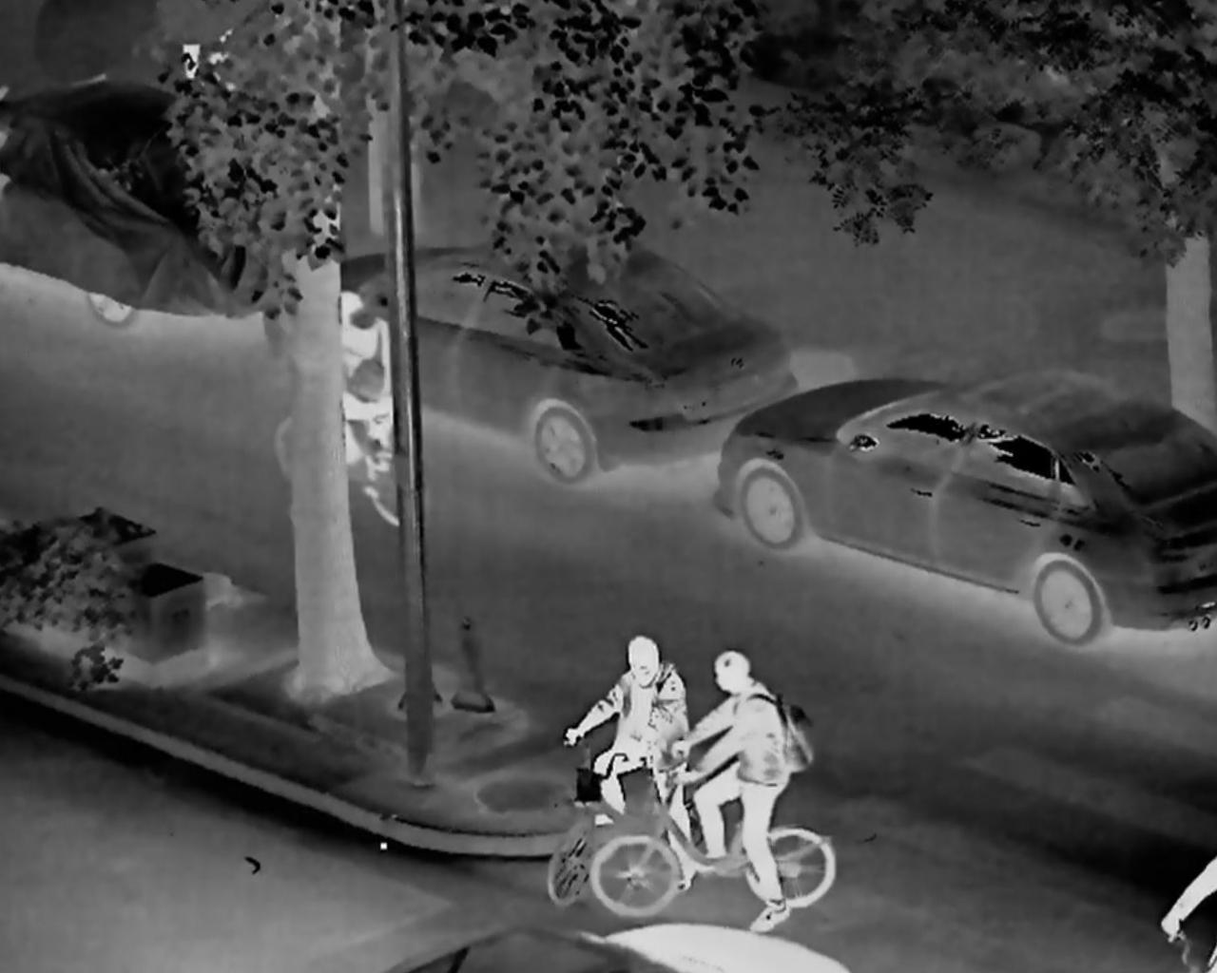person: (680, 637, 827, 944), (563, 633, 696, 887), (296, 285, 414, 502)
